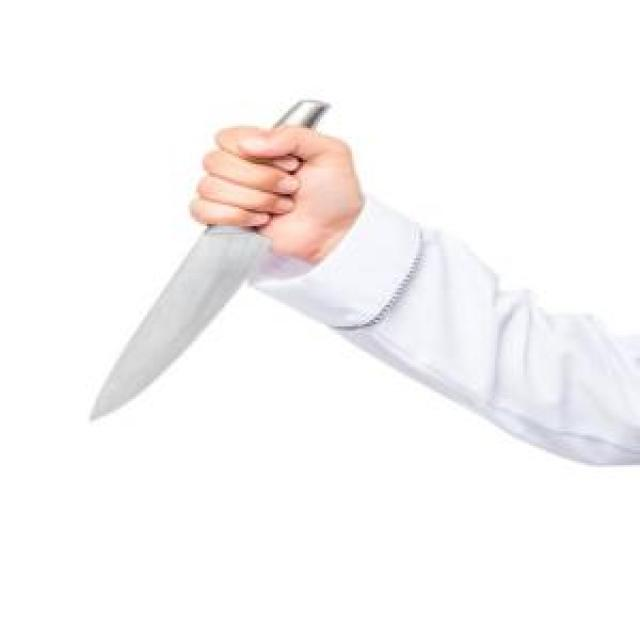knife: (86, 83, 360, 428)
